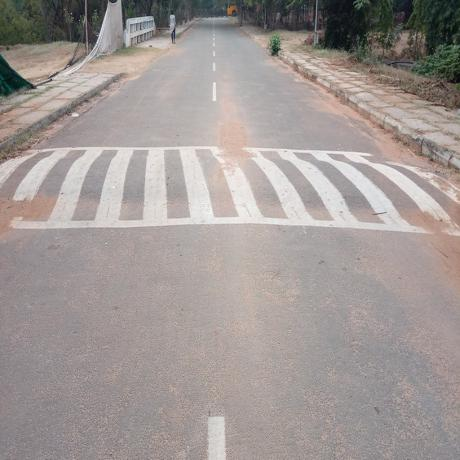Speed Bump: (4, 144, 459, 236)
